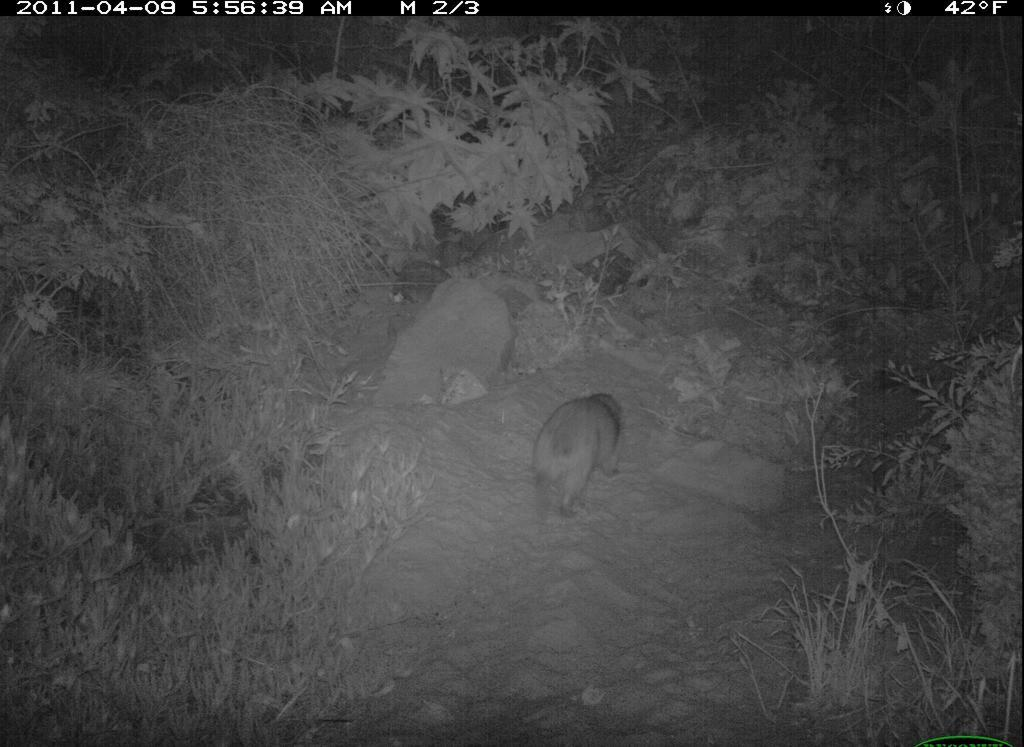raccoon: (525, 386, 630, 532)
